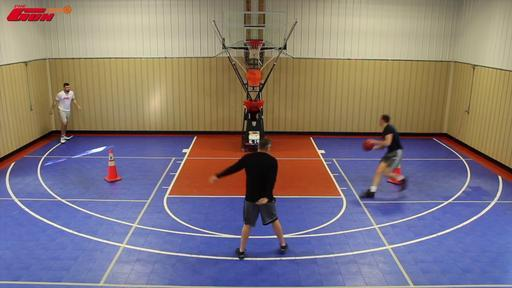ball: (362, 139, 375, 151)
human: (210, 138, 288, 262), (358, 115, 408, 198), (48, 82, 84, 144)
rim: (244, 40, 264, 59)
